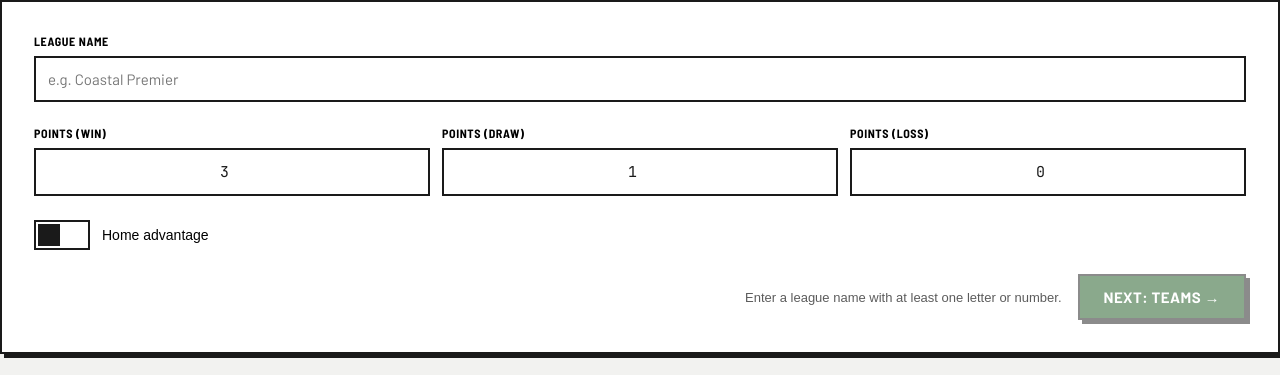
Test: DetailsStep › Next needs a league name › enables Next once the name has a letter or a number, and disables it again when cleared
In the field labelled "League name": (640, 79) [34,56,1246,102], type "Coastal Premier"
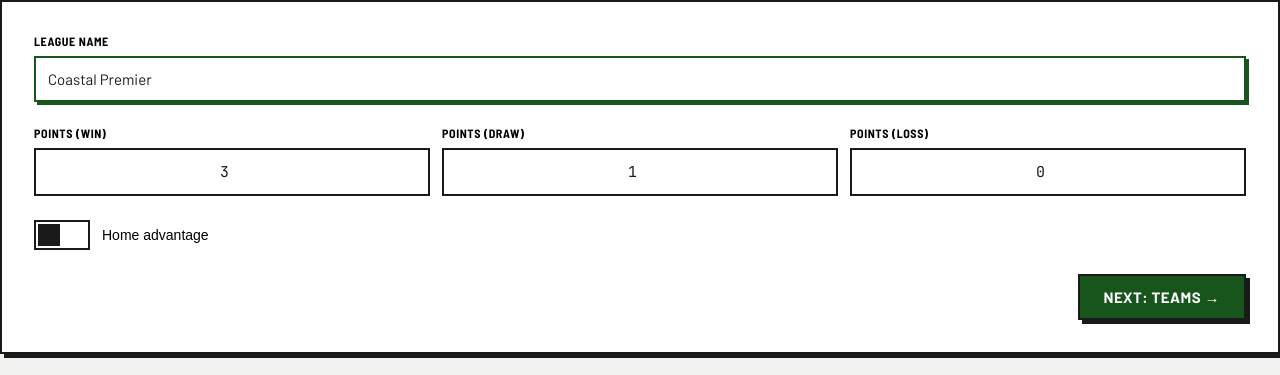
Check: the button "Next: Teams →" is enabled, box [1078,274,1246,320]
Clear the field labelled "League name": (640, 79) [34,56,1246,102]
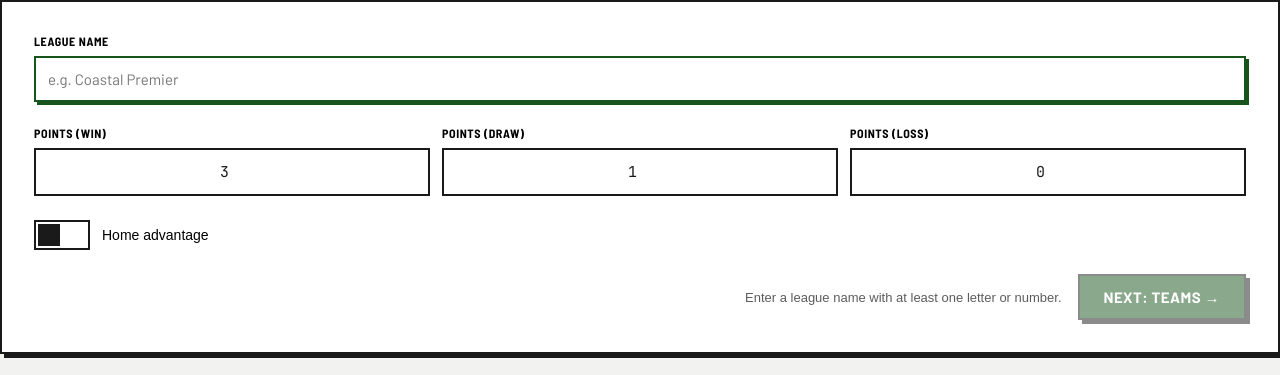
Check: the button "Next: Teams →" is disabled, box [1078,274,1246,320]
